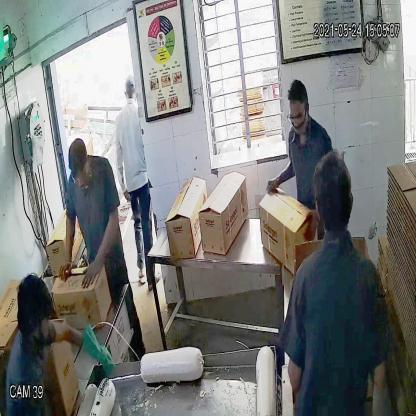goggles: (286, 107, 308, 128), (68, 168, 91, 186)
